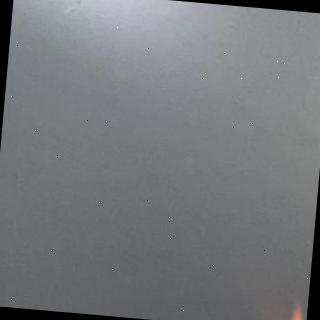fire: (280, 296, 308, 320)
